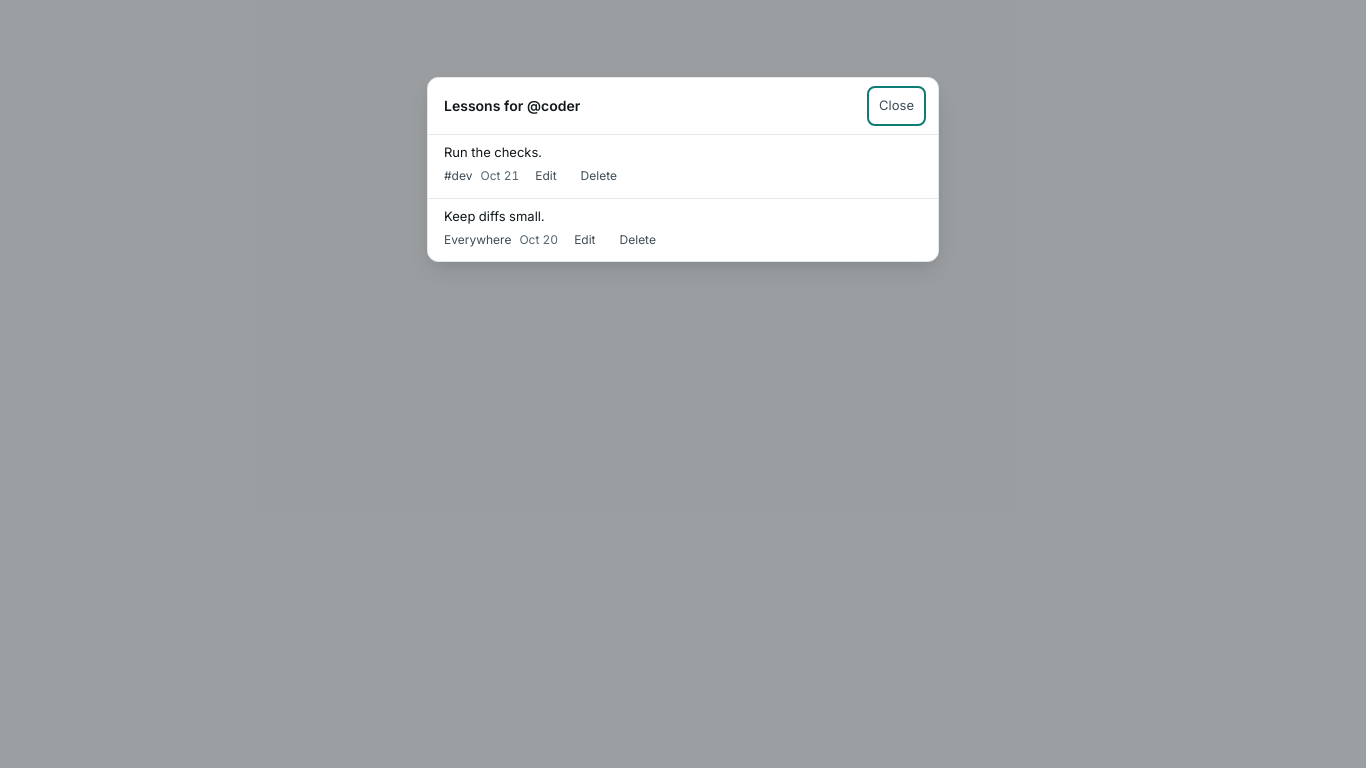
Test: LessonsDialog › sends the DELETE after five seconds and drops the lesson from the cache
expect the text "Run the checks." is shown: met, box [444,144,542,160]
Click the button "Delete" in the row of "Oct 21". click: (599, 176)
box: [573,162,625,190]
Wait 5000 ms
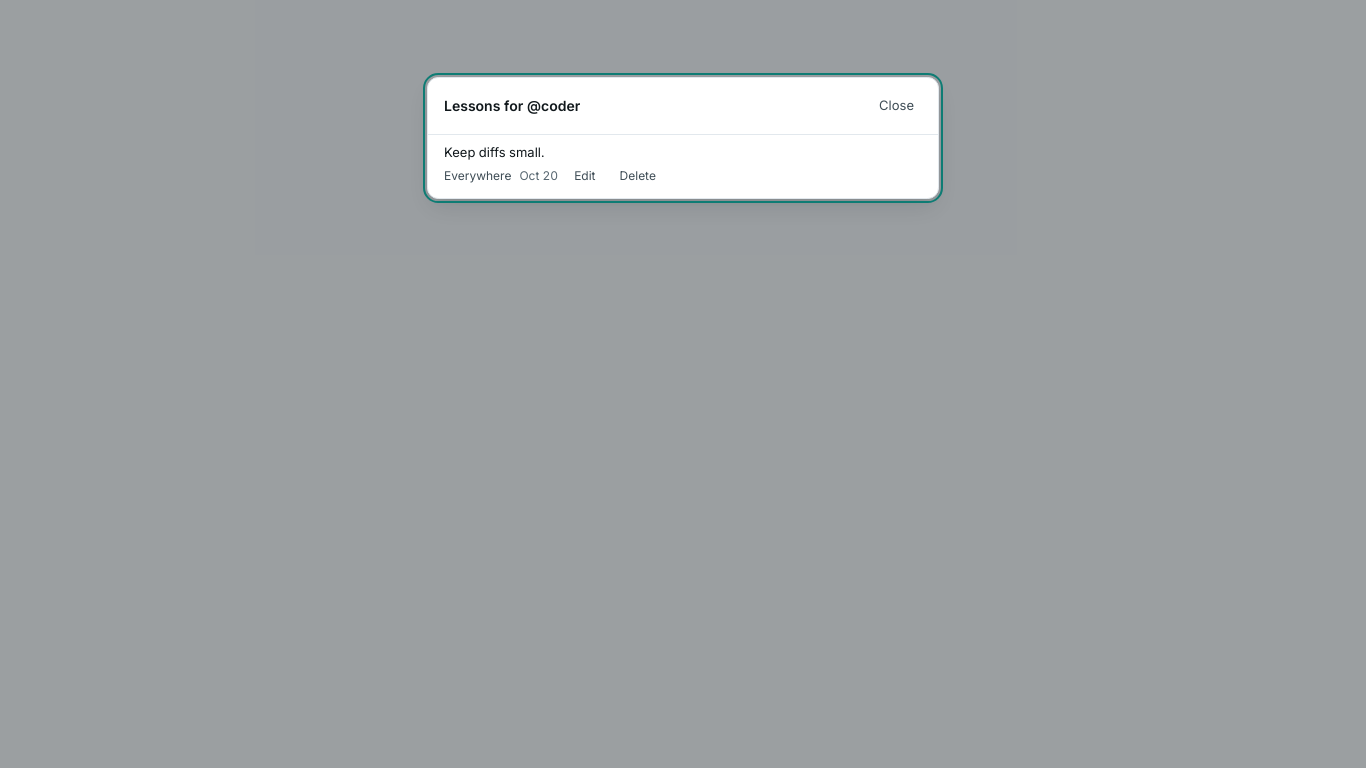
expect the text "Run the checks." is gone: met
